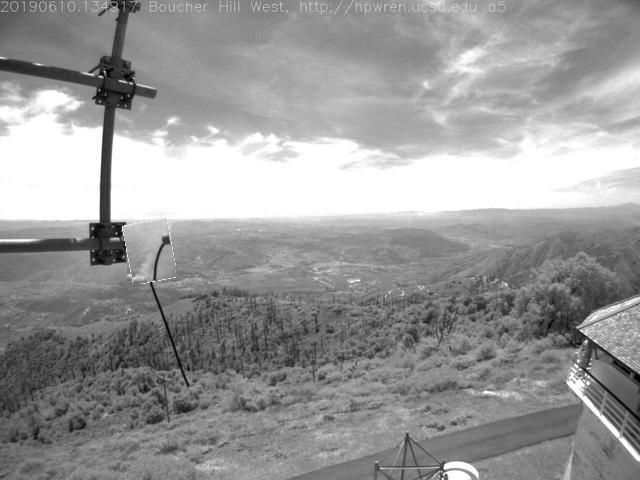smoke: (126, 221, 176, 285)
